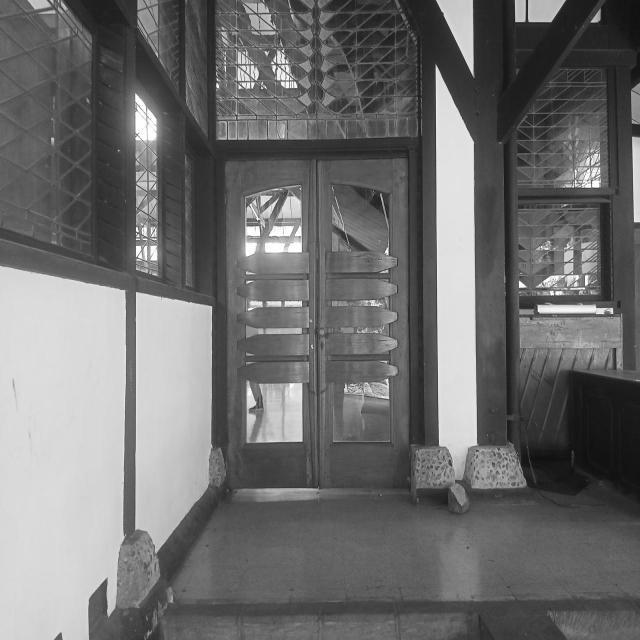door: (216, 148, 414, 491)
